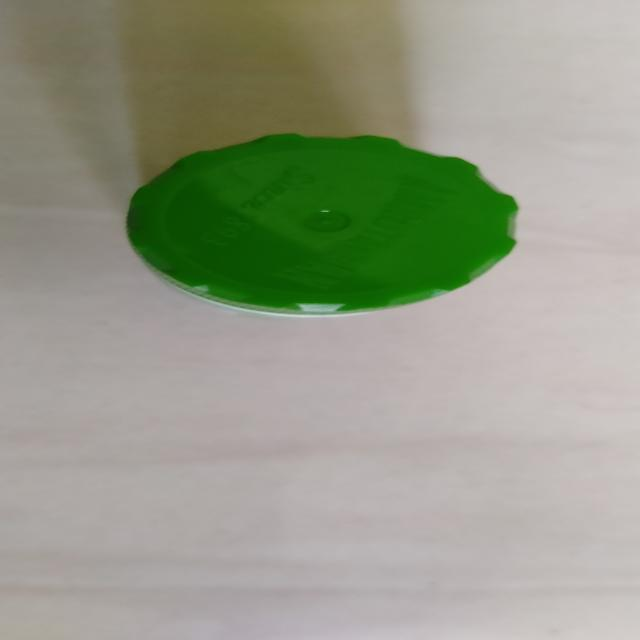eucalyptus oil: (118, 130, 531, 325)
